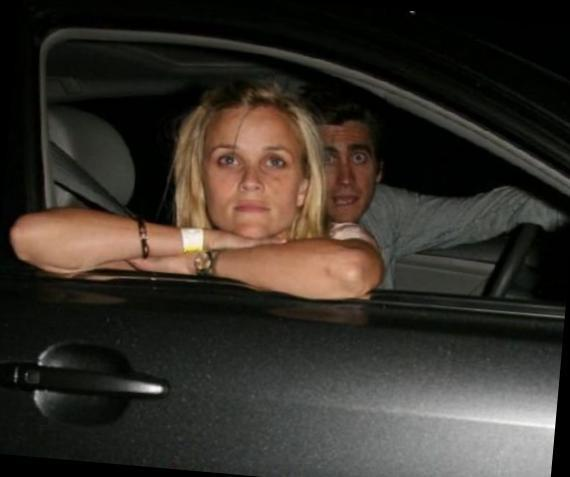Drunk: (205, 110, 298, 233), (317, 124, 375, 217)
